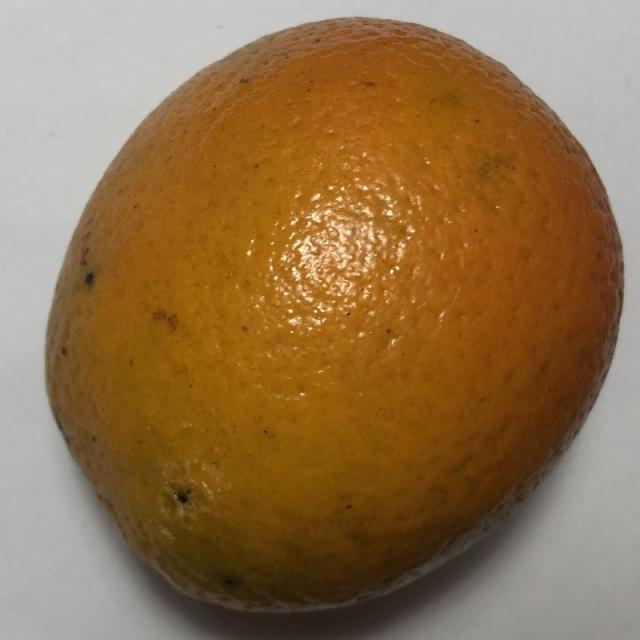blackspot: (33, 10, 628, 630)
